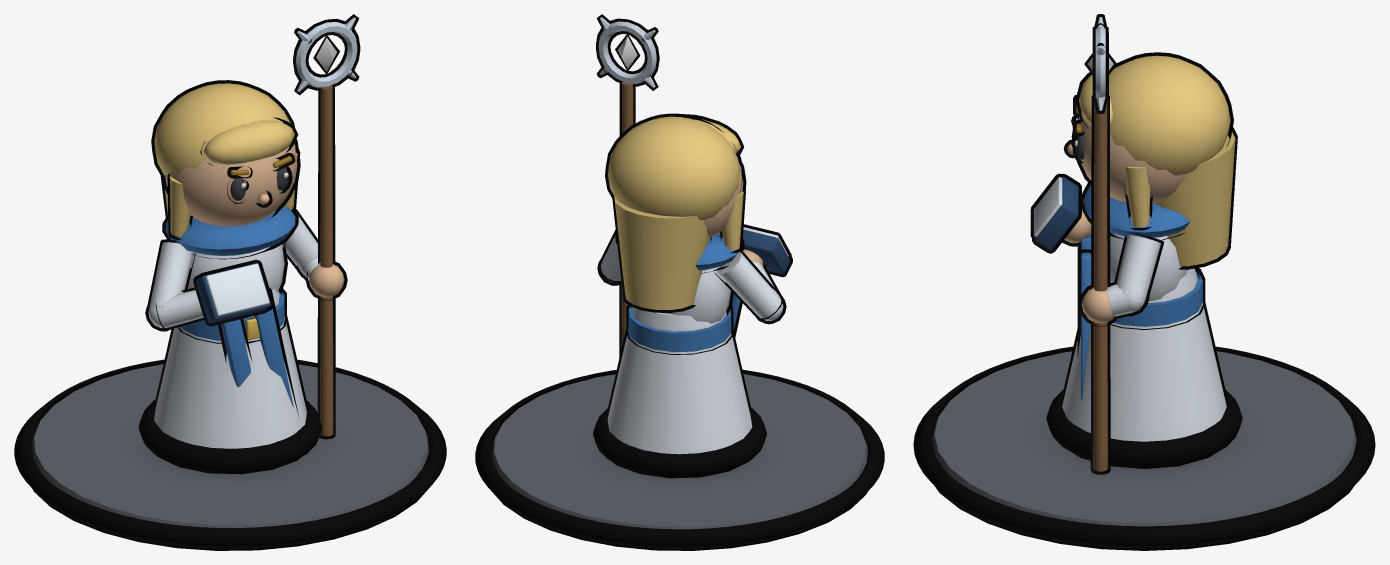
Rendered from priest.fbx.
3 renders of one model, left to right at view 1: azimuth 30°, elevation 25°; view 2: azimuth 150°, elevation 25°; view 3: azimuth 270°, elevation 25°, orthographic. The views are drawn at different scales.
Visible parts, largest first — view 1: priest; view 2: priest; view 3: priest.
Part boxes in pixels (x1=…): priest: x1=14, y1=14, x2=446, y2=550; priest: x1=475, y1=14, x2=884, y2=550; priest: x1=913, y1=14, x2=1375, y2=550.
Size of the model in its own units: 1.58 by 1.78 by 1.58.
2 materials, 1 textured.
